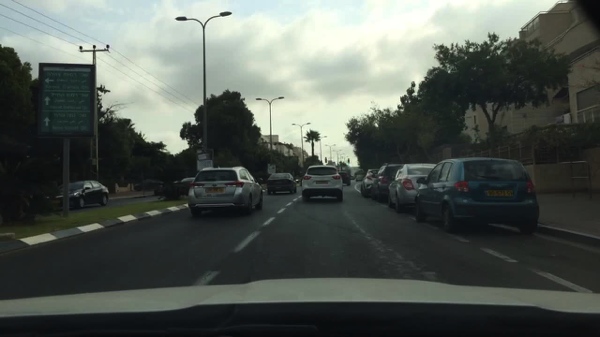car: (412, 155, 539, 237), (187, 164, 265, 219), (384, 163, 440, 214), (48, 178, 111, 212), (300, 164, 345, 203), (369, 163, 402, 205), (265, 172, 298, 196), (358, 168, 379, 199), (170, 176, 197, 197), (132, 178, 160, 193), (154, 183, 172, 197), (338, 171, 351, 187), (352, 171, 365, 182)
traffic sign: (37, 62, 96, 138)
